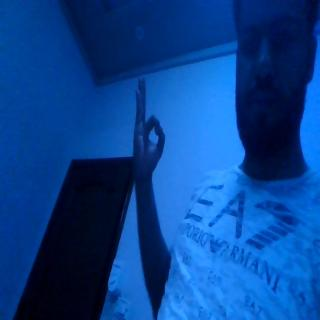Space: (121, 70, 175, 207)
